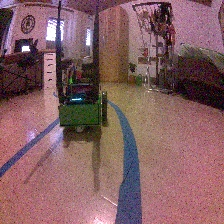rob: (57, 62, 108, 134)
